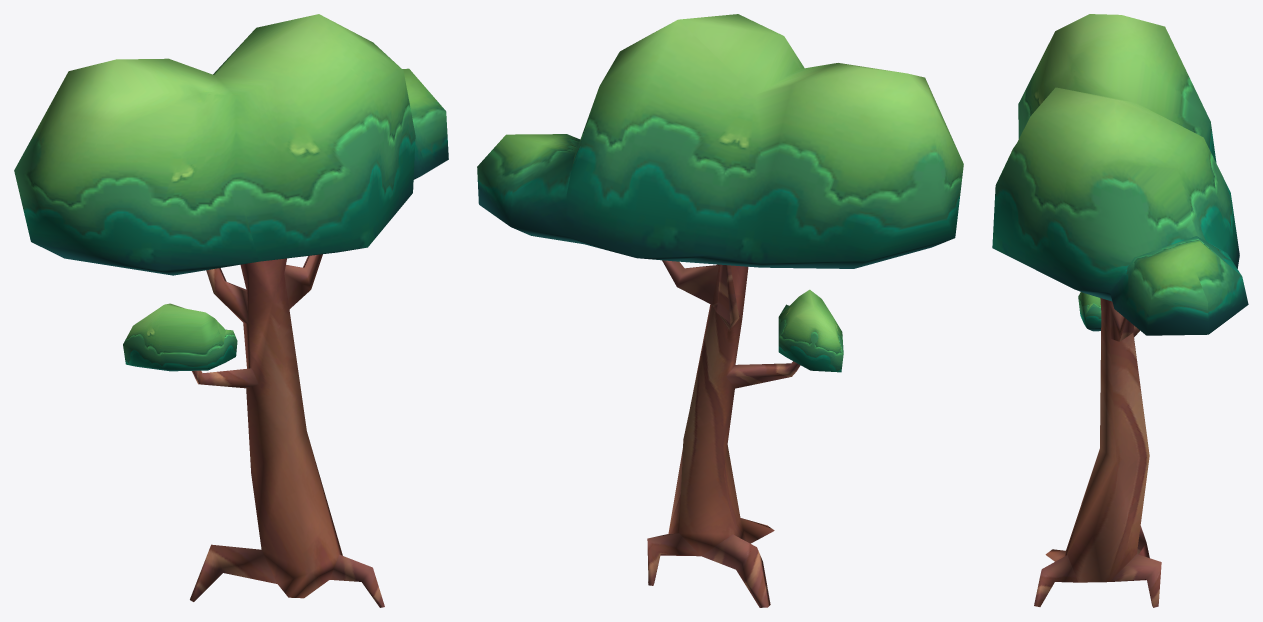
File: IslandIglooLotJungleTree.fbx
3 views of the same model, side by side, from view 1: azimuth 30°, elevation 25°; view 2: azimuth 150°, elevation 25°; view 3: azimuth 270°, elevation 25° (orthographic). The views are drawn at different scales.
Parts seen in each view (by area): view 1: IslandIglooLotJungleTree; view 2: IslandIglooLotJungleTree; view 3: IslandIglooLotJungleTree.
Part boxes in pixels (x1=…): IslandIglooLotJungleTree: x1=14, y1=14, x2=448, y2=607; IslandIglooLotJungleTree: x1=477, y1=14, x2=963, y2=607; IslandIglooLotJungleTree: x1=992, y1=14, x2=1248, y2=607.
Bounding box in the file's own units: 392 × 482 × 222.
